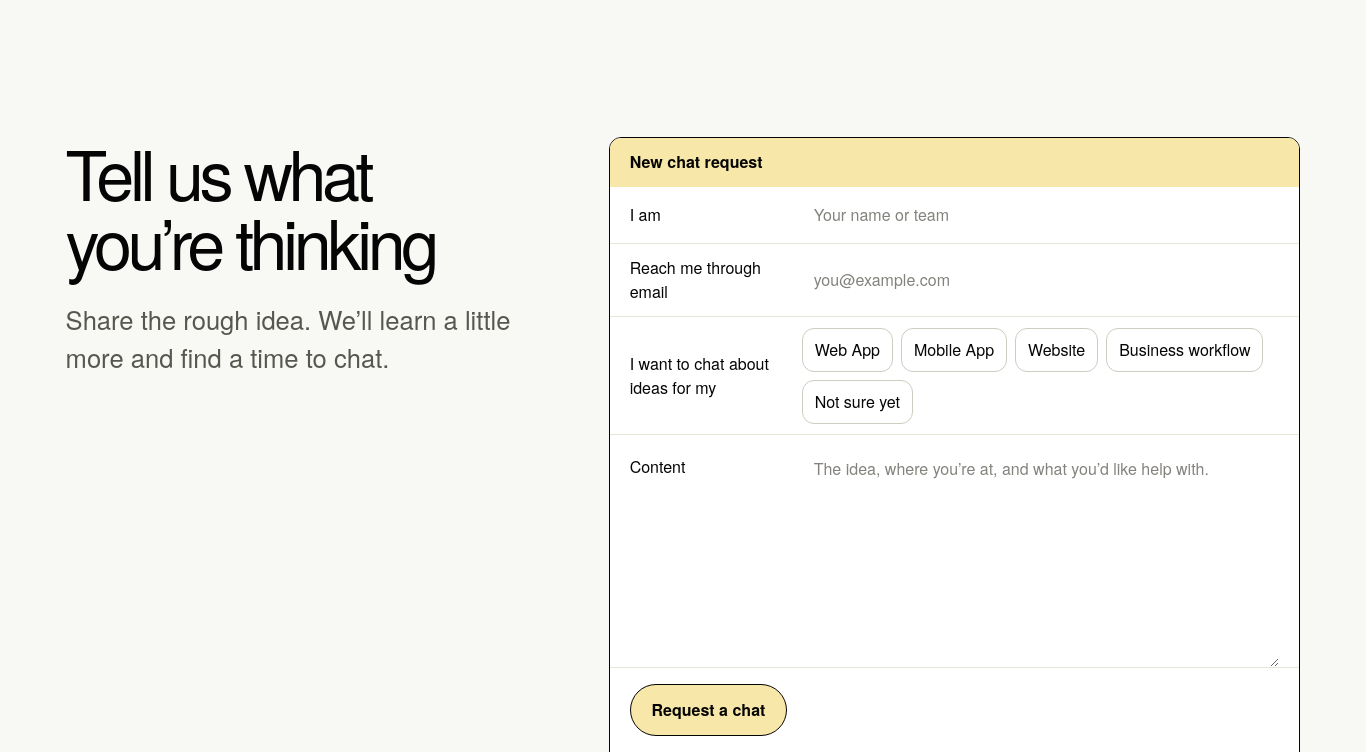
Test: contact form › locks inputs, prevents duplicate requests and resets only after success
The image size is (1366, 752).
In the field labelled "I am": (1041, 215) [802,187,1280,243], type "Test visitor"
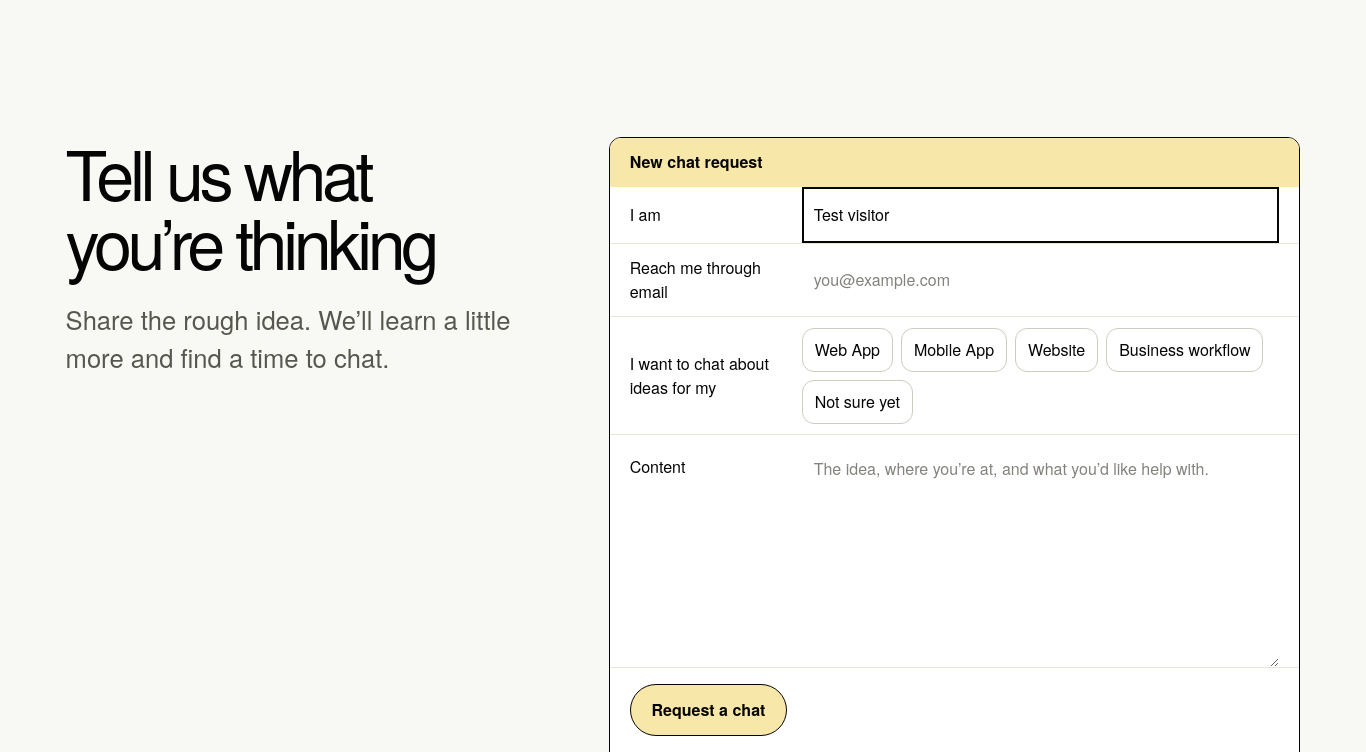
In the field labelled "Reach me through email": (1041, 280) [802,252,1280,308], type "visitor@example.com"
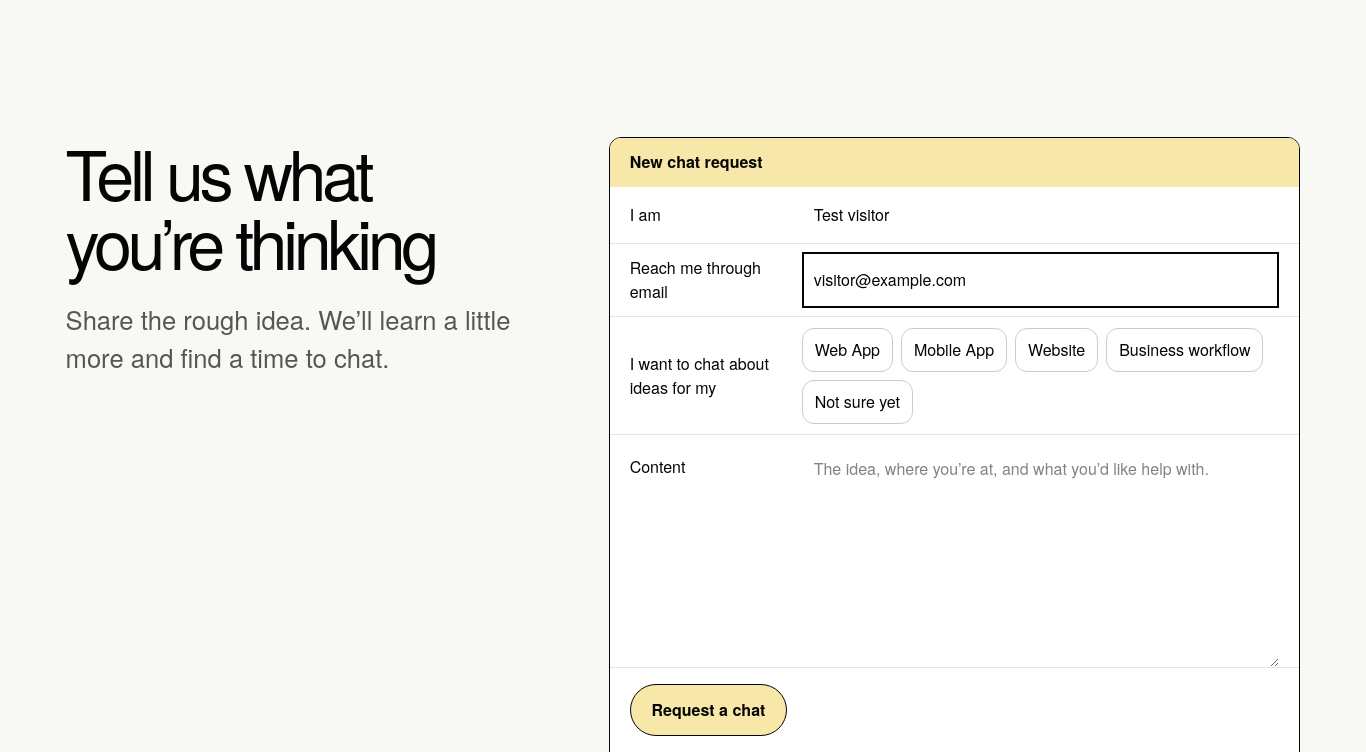
Click the radio button labelled "Website": click(1057, 350) [1015,328,1098,372]
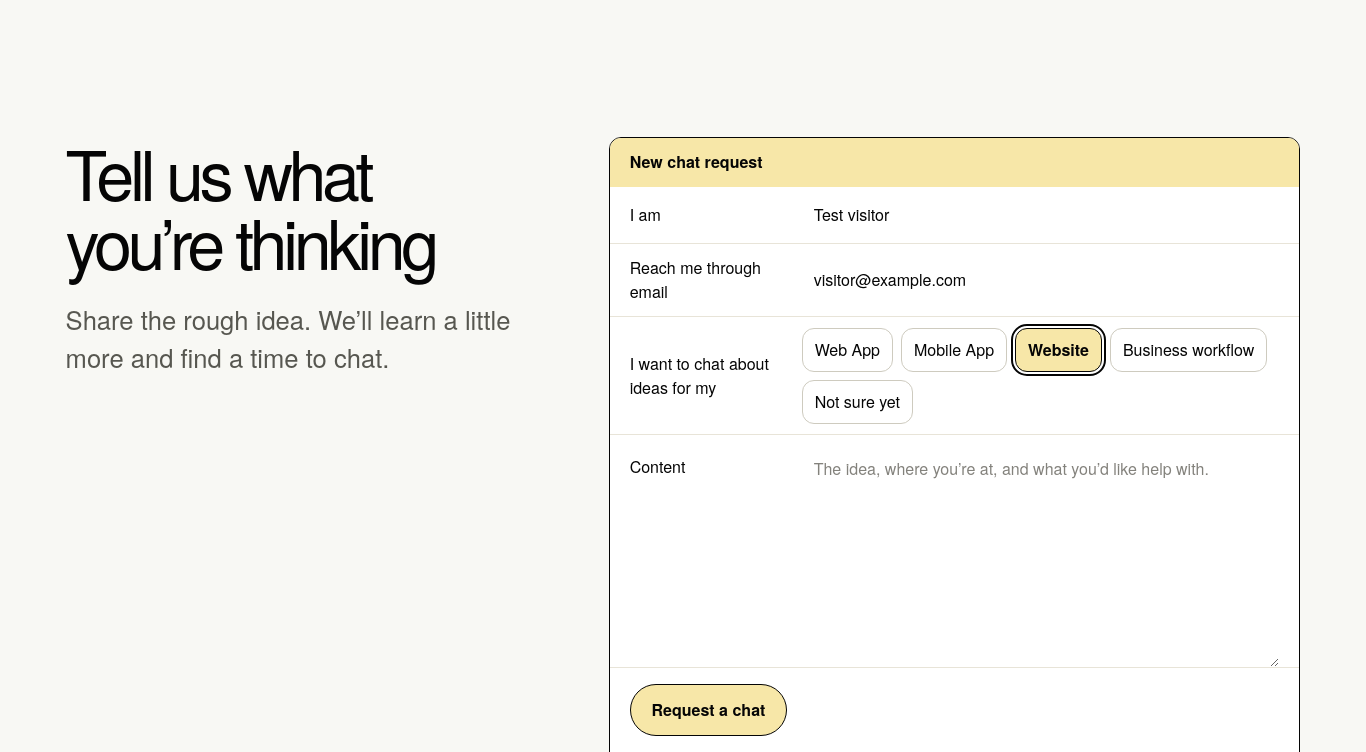
In the text box labelled "Content": (1041, 555) [802,443,1280,667], type "A website for our studio"
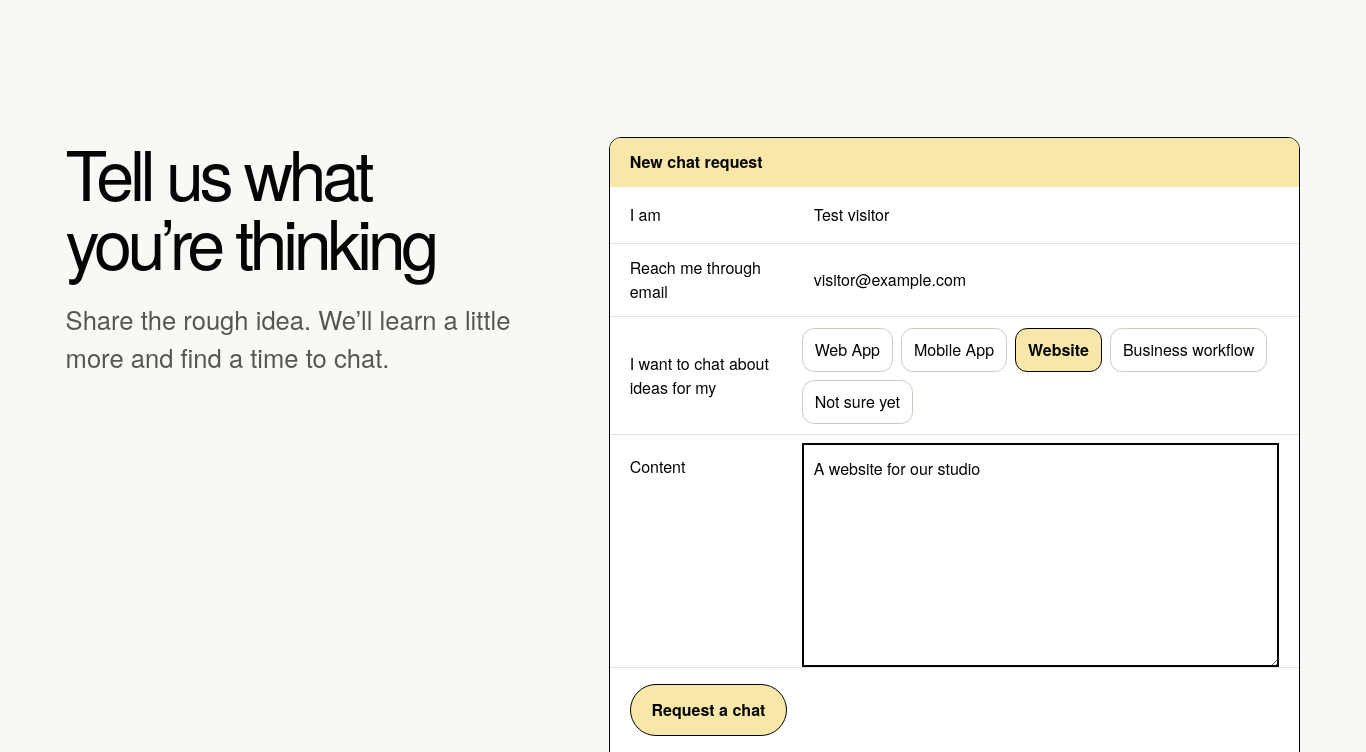
Click the button "Request a chat": click(708, 710) [630,684,787,736]
(page scrolled)
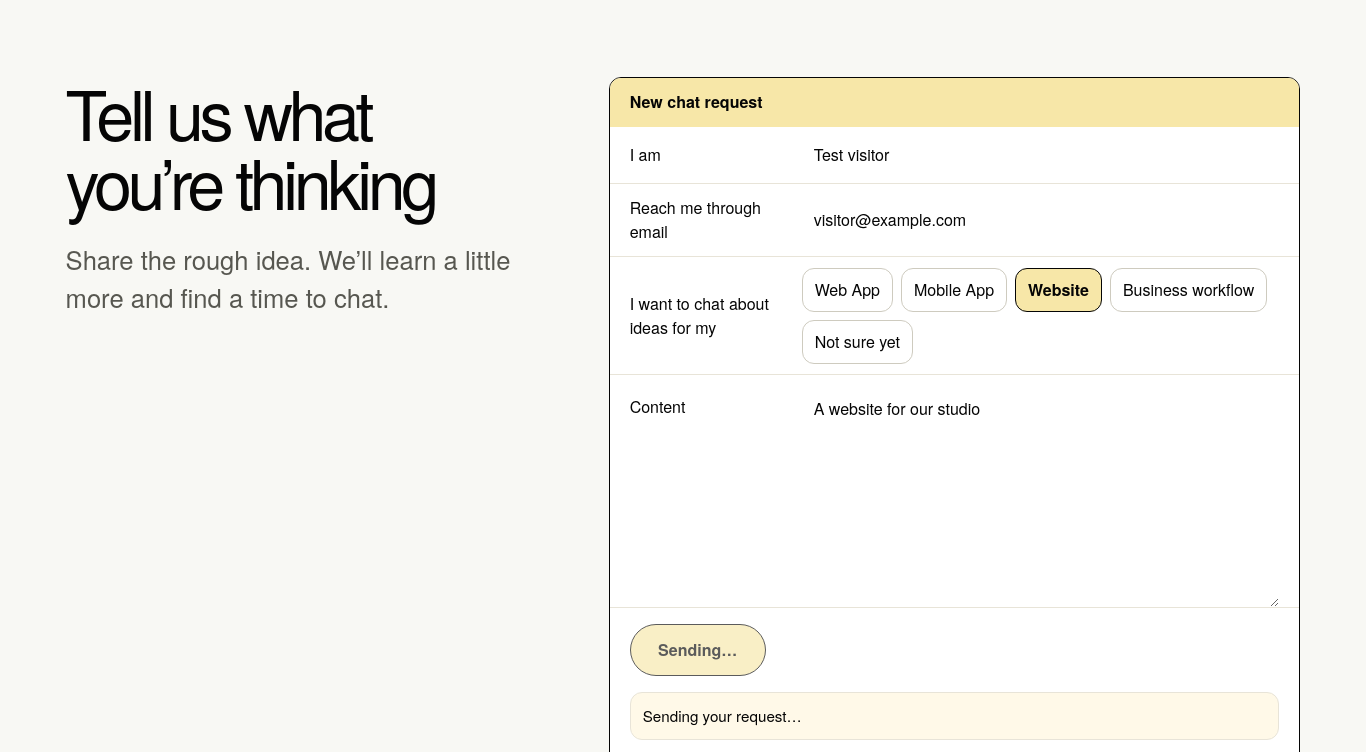
Expected: the button "Sending…" is disabled, [630,624,766,676]
Expected: the field labelled "I am" is disabled, [802,127,1280,183]
Submit the form
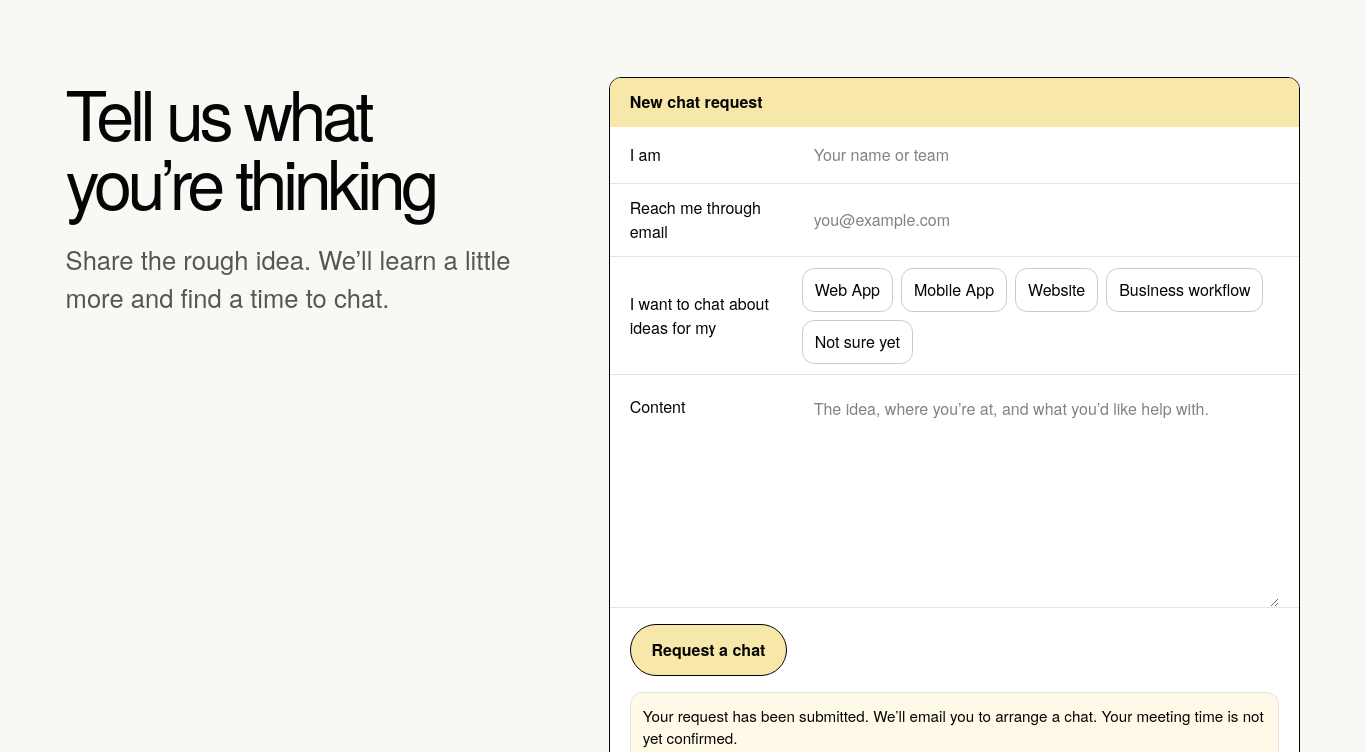
Expected: the radio button labelled "Website" is not checked, [1015,268,1098,312]
Expected: the message shows "Your meeting time is not yet confirmed.", [643,705,1264,748]
Expected: the field labelled "I am" is empty, [802,127,1280,183]
